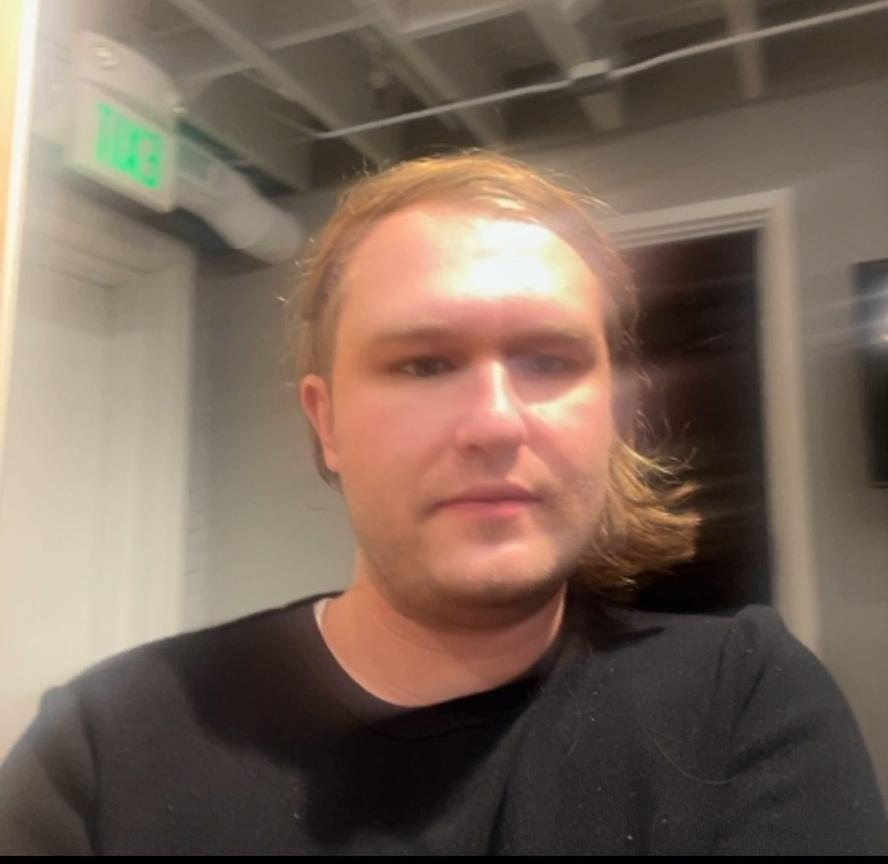NO-Hardhat: (285, 125, 664, 712)
